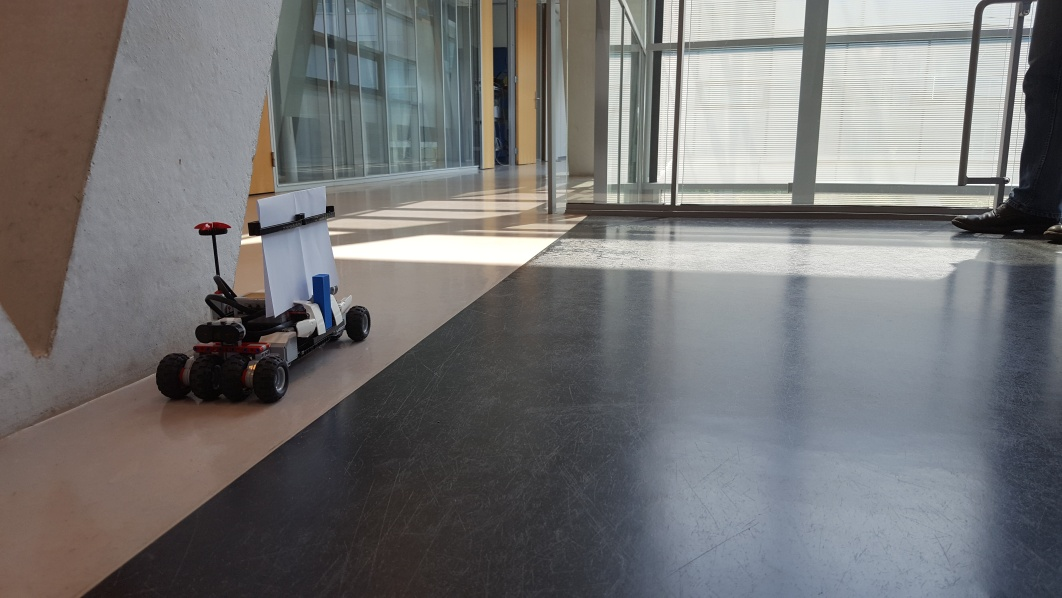car: (155, 187, 371, 405)
